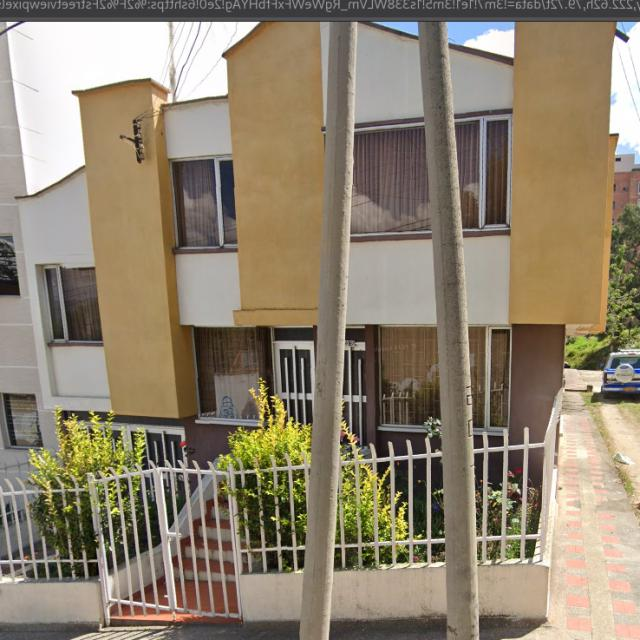Fachada: (1, 23, 329, 465), (449, 23, 617, 444), (342, 23, 441, 454)
Poste: (420, 22, 479, 639), (302, 22, 356, 639)
